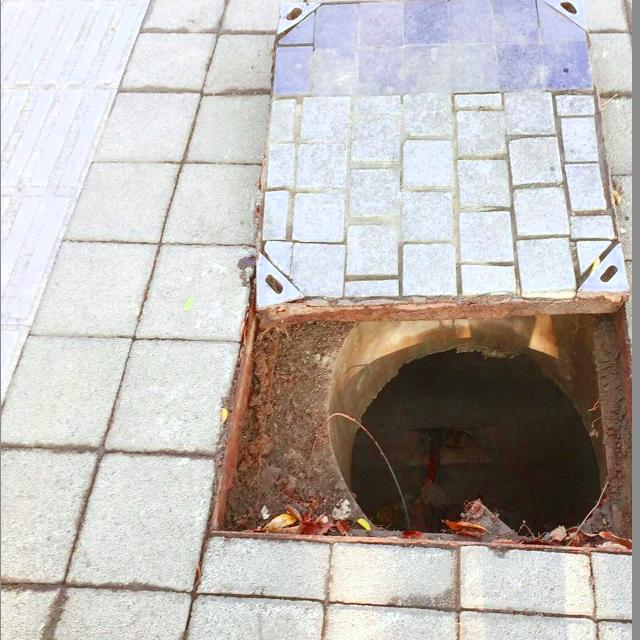uncovered: (194, 0, 620, 572)
